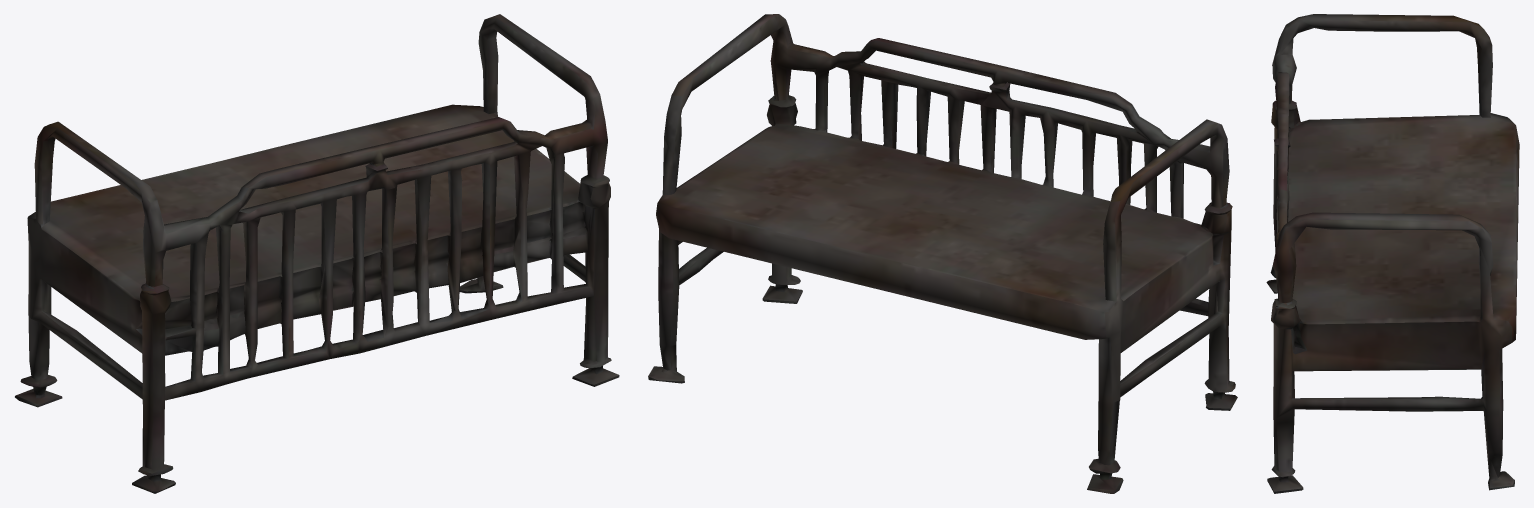
The model's file is weathered-iron-asylum-bed-v003.glb.
3 views of the same model, side by side, from view 1: azimuth 30°, elevation 25°; view 2: azimuth 150°, elevation 25°; view 3: azimuth 270°, elevation 25° (orthographic). The views are drawn at different scales.
Parts seen in each view (by area): view 1: weathered-iron-asylum-bed; view 2: weathered-iron-asylum-bed; view 3: weathered-iron-asylum-bed.
Boxes of the visible parts, bbox=[...] form: weathered-iron-asylum-bed: bbox=[15, 14, 619, 493]; weathered-iron-asylum-bed: bbox=[648, 14, 1237, 493]; weathered-iron-asylum-bed: bbox=[1266, 14, 1519, 493].
Size of the model in its own units: 1.97 by 1.16 by 0.9811.
Materials: 1 (1 with a texture image).
